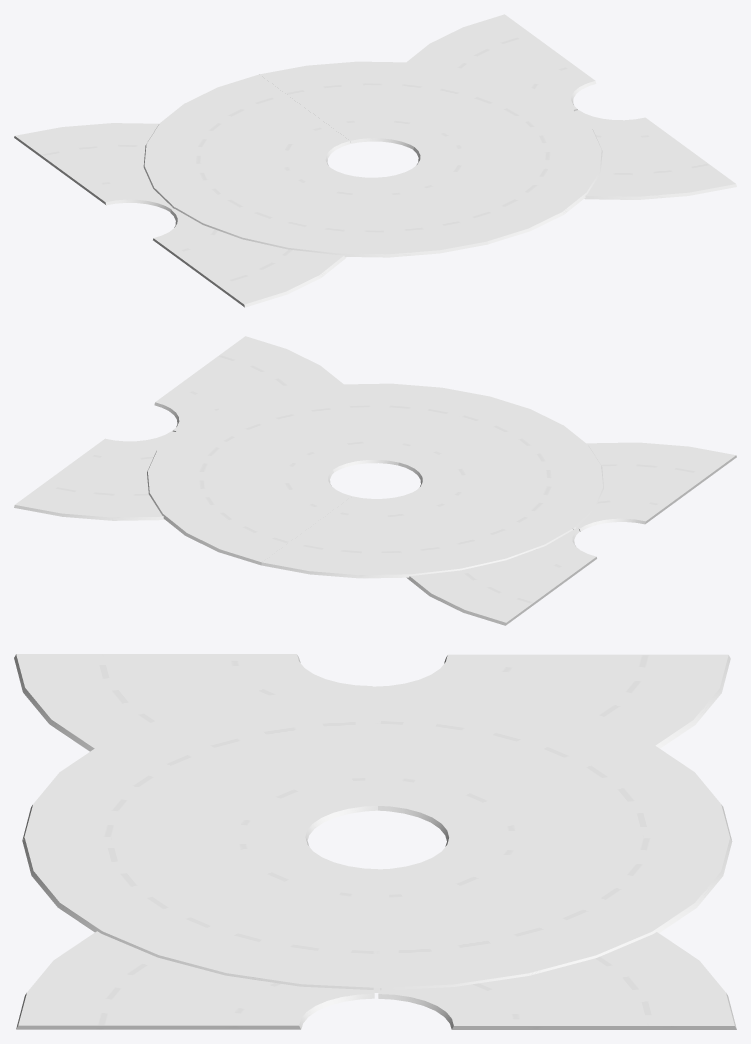
Rendered from Roundabout.FBX.
3 views of the same model, one above another, from view 1: azimuth 30°, elevation 25°; view 2: azimuth 150°, elevation 25°; view 3: azimuth 270°, elevation 25° (orthographic). The views are drawn at different scales.
Parts seen in each view (by area): view 1: bibeko-50-bocht-klein003, bibeko-50-bocht-klein001, bibeko-50-bocht-klein002, bibeko-50-bocht-klein, bibeko-50-bocht-klein007, bibeko-50-bocht-klein006, bibeko-50-bocht-klein004, bibeko-50-bocht-klein005; view 2: bibeko-50-bocht-klein001, bibeko-50-bocht-klein, bibeko-50-bocht-klein003, bibeko-50-bocht-klein002, bibeko-50-bocht-klein005, bibeko-50-bocht-klein007, bibeko-50-bocht-klein004, bibeko-50-bocht-klein006; view 3: bibeko-50-bocht-klein001, bibeko-50-bocht-klein002, bibeko-50-bocht-klein003, bibeko-50-bocht-klein, bibeko-50-bocht-klein006, bibeko-50-bocht-klein005, bibeko-50-bocht-klein007, bibeko-50-bocht-klein004.
Part boxes in pixels (x1,y1,x2,y2): bibeko-50-bocht-klein003: (172,167,488,257); bibeko-50-bocht-klein001: (259,61,574,149); bibeko-50-bocht-klein002: (396,108,602,244); bibeko-50-bocht-klein: (143,74,350,208); bibeko-50-bocht-klein007: (153,209,346,307); bibeko-50-bocht-klein006: (575,110,736,199); bibeko-50-bocht-klein004: (14,123,174,211); bibeko-50-bocht-klein005: (407,14,596,110); bibeko-50-bocht-klein001: (147,430,351,565); bibeko-50-bocht-klein: (261,490,575,578); bibeko-50-bocht-klein003: (398,396,603,529); bibeko-50-bocht-klein002: (176,383,488,472); bibeko-50-bocht-klein005: (14,431,175,520); bibeko-50-bocht-klein007: (576,442,736,531); bibeko-50-bocht-klein004: (406,528,596,625); bibeko-50-bocht-klein006: (154,336,343,431); bibeko-50-bocht-klein001: (373,837,732,992); bibeko-50-bocht-klein002: (22,837,381,990); bibeko-50-bocht-klein003: (22,687,380,841); bibeko-50-bocht-klein: (373,687,731,840); bibeko-50-bocht-klein006: (16,931,374,1029); bibeko-50-bocht-klein005: (378,932,736,1029); bibeko-50-bocht-klein007: (14,654,372,751); bibeko-50-bocht-klein004: (372,654,730,748).
Bounding box in the file's own units: 2036 × 15.04 × 1673.
